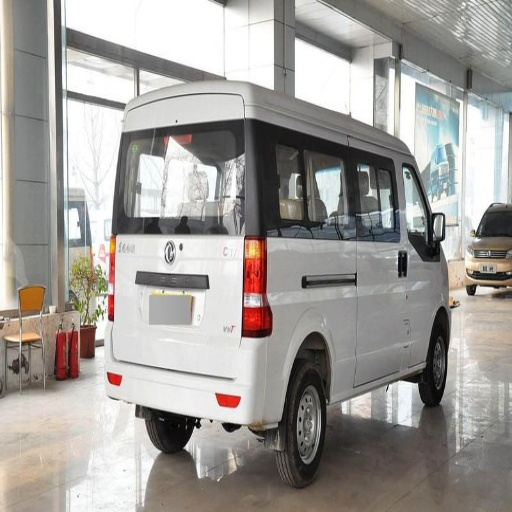back_bumper: (106, 321, 288, 425)
trunk: (107, 235, 246, 375), (277, 253, 380, 394)
